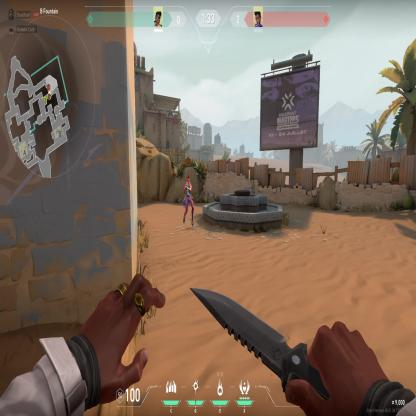enemy: (182, 174, 194, 228)
